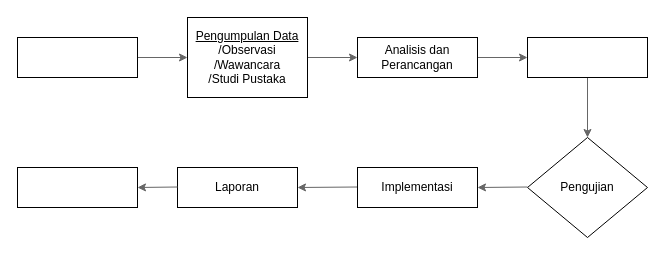
The diagram is 665 pixels wide and 255 high, and some of its shapes have lost their labels. The centre of each missing label's shape, as x and y in pixels:
"Mulai" goes at pixel 77 57.
"Pembuatan Sistem" goes at pixel 587 57.
"Selesai" goes at pixel 77 187.
